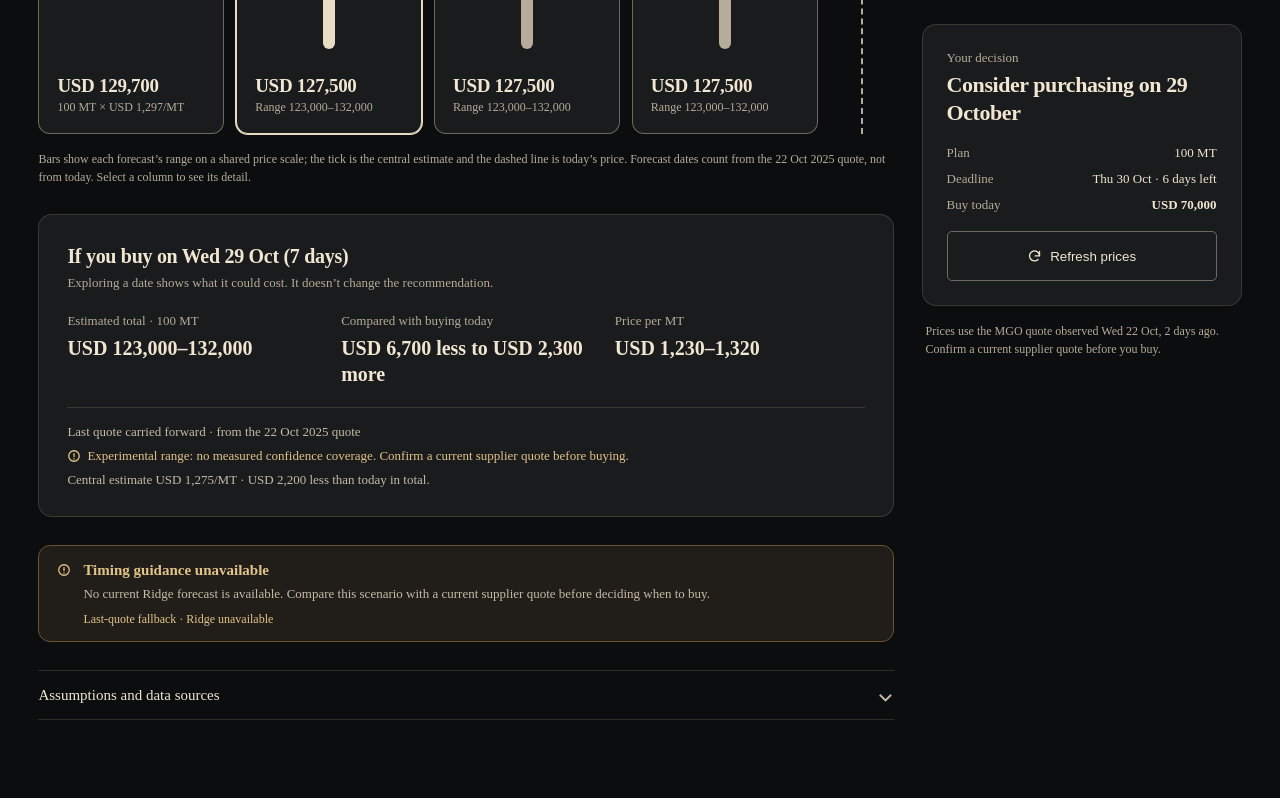
Scenario: labels experimental plan ranges without displaying confidence coverage claims
The width and height of the screenshot is (1280, 798).
(page scrolled)
Expected: the element named "Estimate limitations" is shown, x1=38 y1=545 x2=894 y2=642
Expected: the text "Last-quote fallback · Ridge unavailable" is shown, x1=83 y1=612 x2=273 y2=627
Click the heading "Assumptions and data sources".
click(129, 694)  # box x1=38 y1=686 x2=220 y2=702
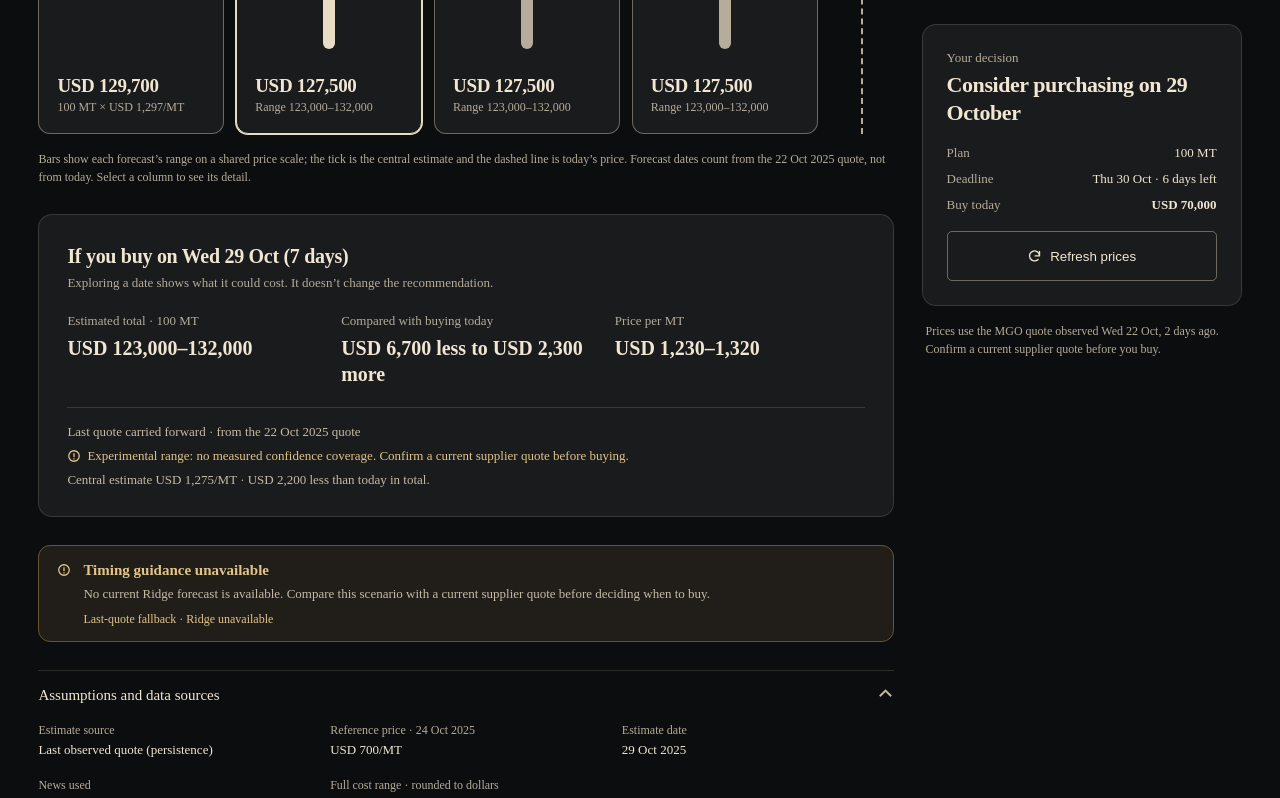
Expected: the text "Last observed quote (persistence)" is shown, x1=38 y1=742 x2=213 y2=757
